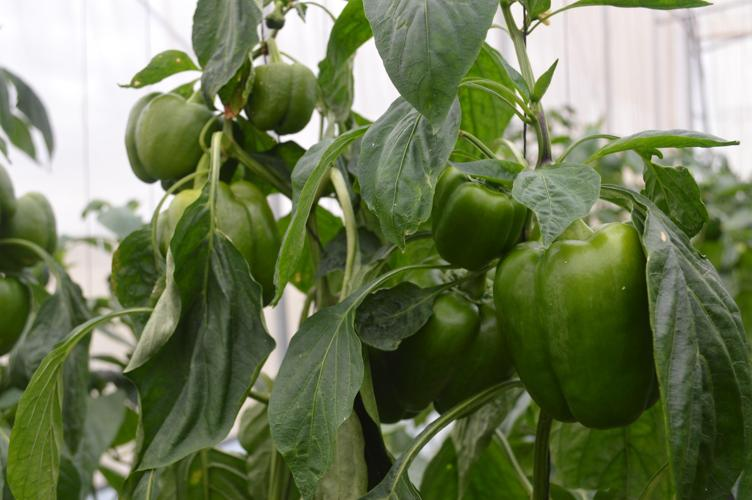BellPepper: (500, 225, 652, 430), (382, 266, 502, 419), (170, 181, 280, 307), (424, 168, 518, 273), (126, 94, 220, 185), (249, 60, 317, 135)
